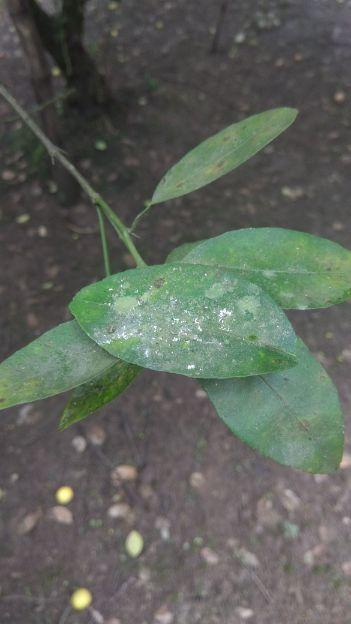Myzus persicae: (71, 263, 296, 378)
